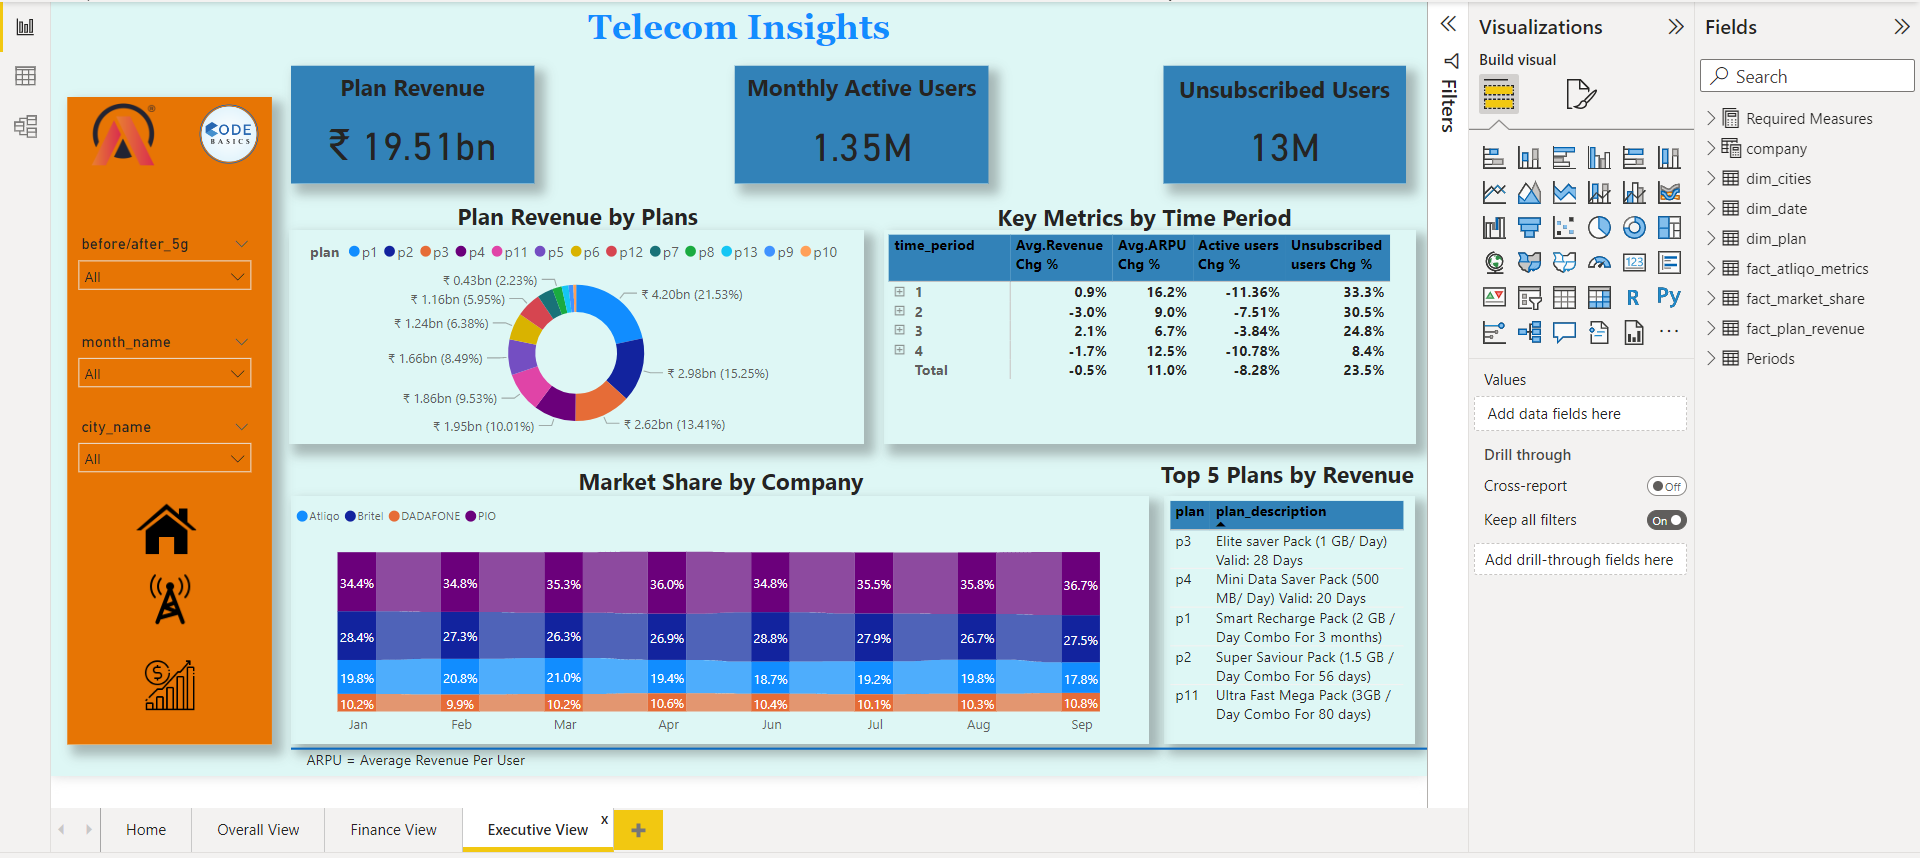

Layout of this report page (visuals, bound fields, positions):
{"tool":"powerbi","page":{"name":"Executive View","canvas":[1280,720],"ordinal":3},"visuals":[{"type":"shape","box":[1035.4,59.7,225.2,109.9],"z":0},{"type":"shape","box":[15.5,88.1,190.4,602.2],"z":1000},{"type":"slicer","fields":{"Values":["dim_date.month_name"]},"box":[15.5,302.3,180.9,69],"z":2000},{"type":"slicer","fields":{"Values":["dim_cities.city_name"]},"box":[15.5,380.8,180.9,78.5],"z":3000},{"type":"slicer","fields":{"Values":["dim_date.before/after_5g"]},"box":[15.5,211.8,180.9,72.6],"z":4000},{"type":"image","box":[27.4,88.1,79.7,69],"z":5000},{"type":"image","box":[126.1,88.1,79.7,69],"z":6000},{"type":"donutChart","fields":{"Y":["Required Measures.Total_plan_revenue"],"Category":["dim_plan.plan"],"Series":["dim_plan.plan_description"]},"box":[221.4,211.8,535.5,199.9],"z":7000},{"type":"pivotTable","fields":{"Rows":["dim_date.time_period","dim_cities.city_name"],"Values":["Required Measures.ARCHNG pct","Required Measures.A arpu CHNG pct","Required Measures.Active users CHNG pct","Required Measures.Unsubscribed users CHNG pct"]},"box":[774.7,211.8,495.1,199.9],"z":8000},{"type":"tableEx","fields":{"Values":["dim_plan.plan","dim_plan.plan_description"]},"box":[1035.4,459.4,234.4,230.9],"z":9000},{"type":"ribbonChart","fields":{"Series":["company.company"],"Category":["dim_date.month_name"],"Y":["Required Measures.MS %"]},"box":[223.7,459.4,798.5,230.9],"z":10000},{"type":"shape","box":[635.7,59.7,236.2,109.9],"z":11000},{"type":"shape","box":[223.8,59.5,226.1,109.5],"z":12000},{"type":"card","fields":{"Values":["Required Measures.Total_plan_revenue"]},"box":[223.8,92.8,226.1,76.2],"z":13000},{"type":"card","fields":{"Values":["Required Measures.Monthly Active Users"]},"box":[635.7,92.7,236.2,76.9],"z":14000},{"type":"card","fields":{"Values":["Required Measures.Total Unsubscribed Users"]},"box":[1035.4,92.7,225.2,76.9],"z":15000},{"type":"textbox","box":[1035.4,61.1,225.2,48.1],"z":16000},{"type":"textbox","box":[635.7,59.7,236.2,46.7],"z":17000},{"type":"textbox","box":[223.8,59.5,226.1,46.4],"z":18000},{"type":"textbox","box":[223.7,178.5,533.2,46.4],"z":19000},{"type":"textbox","box":[1019.9,420.1,260.6,47.6],"z":20000},{"type":"textbox","box":[774.7,179.7,485.6,46.4],"z":21000},{"type":"textbox","box":[221.4,426,804.5,46.4],"z":22000},{"type":"textbox","box":[232.1,690.2,233.3,29.8],"z":23000},{"type":"shape","box":[223.7,670,1056.8,50],"z":24000},{"type":"textbox","box":[0,0,1280.5,60.7],"z":25000},{"type":"image","box":[75,459.4,65.5,65.5],"z":26000},{"type":"image","box":[82.1,524.8,55.9,61.9],"z":27000},{"type":"image","box":[82.1,601,55.9,69],"z":28000}]}

Visuals, with their boxes on the page's 1280x720 design canvas (x1, y1, x2, y2). These are canvas units, not pixel positions in the 1920x858 screenshot, which may show the page scaled, cropped or inside an application window:
shape: bbox(1035, 60, 1261, 170)
shape: bbox(16, 88, 206, 690)
slicer - dim_date.month_name: bbox(16, 302, 196, 371)
slicer - dim_cities.city_name: bbox(16, 381, 196, 459)
slicer - dim_date.before/after_5g: bbox(16, 212, 196, 284)
image: bbox(27, 88, 107, 157)
image: bbox(126, 88, 206, 157)
donutChart - Required Measures.Total_plan_revenue x dim_plan.plan: bbox(221, 212, 757, 412)
pivotTable - dim_date.time_period x dim_cities.city_name: bbox(775, 212, 1270, 412)
tableEx - dim_plan.plan x dim_plan.plan_description: bbox(1035, 459, 1270, 690)
ribbonChart - company.company x dim_date.month_name: bbox(224, 459, 1022, 690)
shape: bbox(636, 60, 872, 170)
shape: bbox(224, 60, 450, 169)
card - Required Measures.Total_plan_revenue: bbox(224, 93, 450, 169)
card - Required Measures.Monthly Active Users: bbox(636, 93, 872, 170)
card - Required Measures.Total Unsubscribed Users: bbox(1035, 93, 1261, 170)
textbox: bbox(1035, 61, 1261, 109)
textbox: bbox(636, 60, 872, 106)
textbox: bbox(224, 60, 450, 106)
textbox: bbox(224, 178, 757, 225)
textbox: bbox(1020, 420, 1280, 468)
textbox: bbox(775, 180, 1260, 226)
textbox: bbox(221, 426, 1026, 472)
textbox: bbox(232, 690, 465, 720)
shape: bbox(224, 670, 1280, 720)
textbox: bbox(0, 0, 1280, 61)
image: bbox(75, 459, 140, 525)
image: bbox(82, 525, 138, 587)
image: bbox(82, 601, 138, 670)
